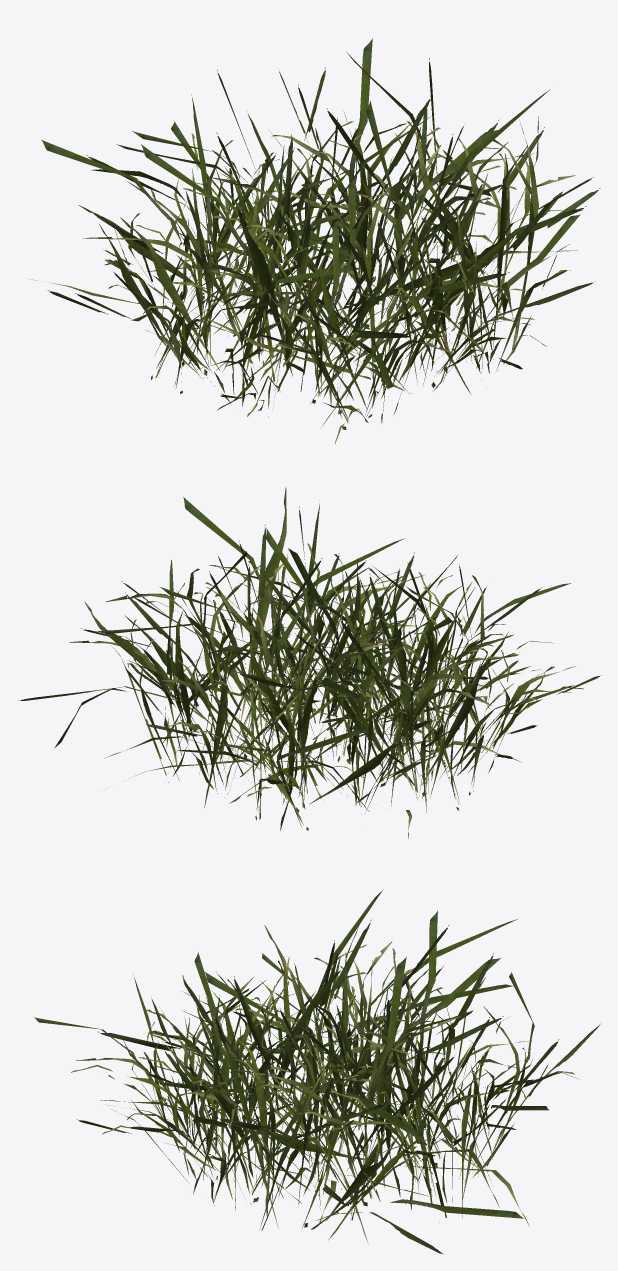
File: ph_grass_medium_01_hi.glb
3 renders of one model, top to bottom at view 1: azimuth 30°, elevation 25°; view 2: azimuth 150°, elevation 25°; view 3: azimuth 270°, elevation 25°, orthographic. The views are drawn at different scales.
Parts seen in each view (by area): view 1: grass_medium_01_large_a_LOD0; view 2: grass_medium_01_large_a_LOD0; view 3: grass_medium_01_large_a_LOD0.
Part boxes in pixels (x1,y1,x2,y2): grass_medium_01_large_a_LOD0: (30,38,600,443); grass_medium_01_large_a_LOD0: (18,487,601,838); grass_medium_01_large_a_LOD0: (34,889,600,1254).
Bounding box in the file's own units: 0.3272 × 0.165 × 0.3382.
Materials: 1 (1 with a texture image).
